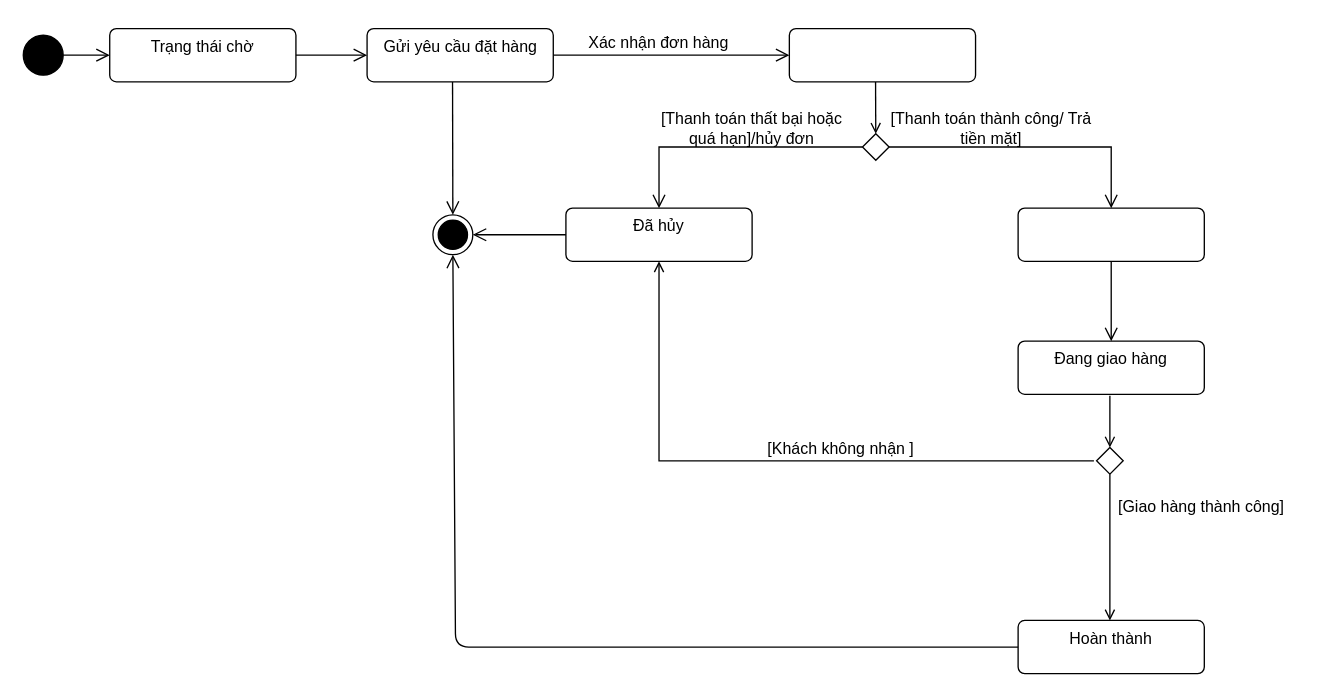
Some shapes in this 1331 by 697 pixel diagram are drawn without their labels. Here are the shapes that lost their labels. From the top down, the box of each, then its label:
(788, 27, 976, 82): Chờ thanh toán
(1017, 207, 1204, 261): Đã xác nhận
